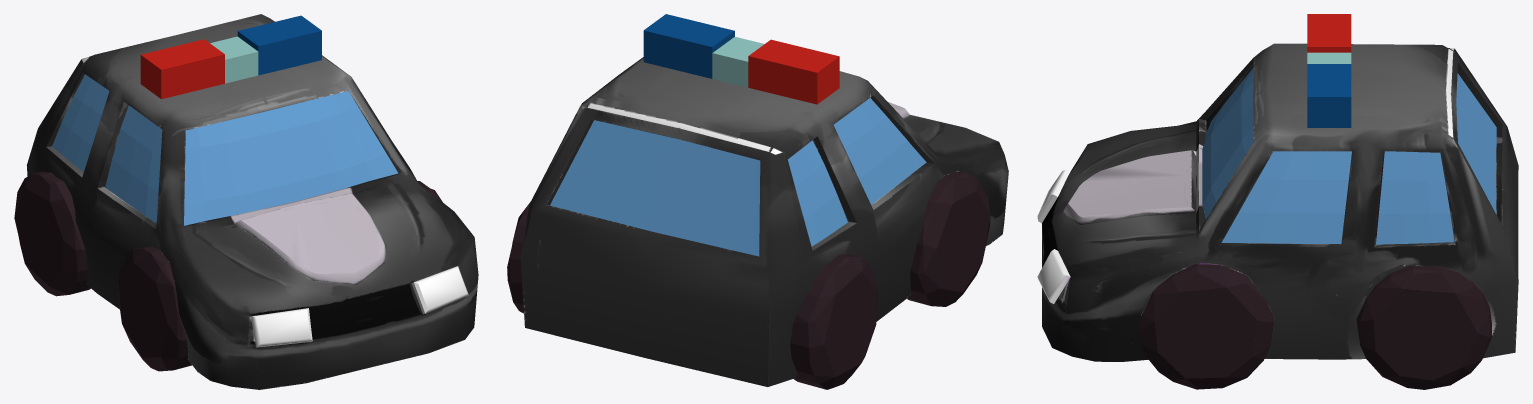
The model's file is policecar_blend.obj.
3 renders of one model, left to right at view 1: azimuth 30°, elevation 25°; view 2: azimuth 150°, elevation 25°; view 3: azimuth 270°, elevation 25°, orthographic. The views are drawn at different scales.
Parts seen in each view (by area): view 1: purplecarrpro_7.001, Cube; view 2: purplecarrpro_7.001, Cube; view 3: purplecarrpro_7.001, Cube.
Boxes of the visible parts, bbox=[...] form: purplecarrpro_7.001: bbox=[14, 14, 478, 389]; Cube: bbox=[140, 15, 321, 99]; purplecarrpro_7.001: bbox=[507, 57, 1008, 389]; Cube: bbox=[643, 14, 839, 104]; purplecarrpro_7.001: bbox=[1037, 43, 1518, 389]; Cube: bbox=[1307, 14, 1351, 127].
Bounding box in the file's own units: 2.17 × 1.76 × 2.91.
Materials: 7 (4 with a texture image).
